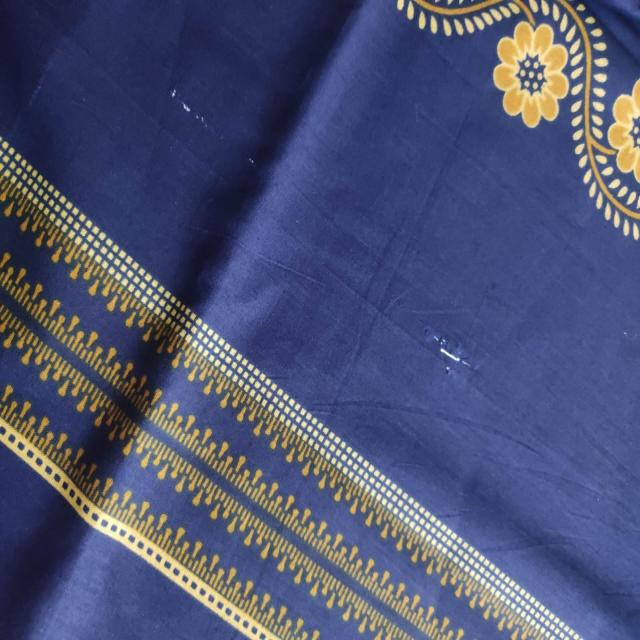selvet: (412, 290, 486, 406), (162, 70, 229, 146)
